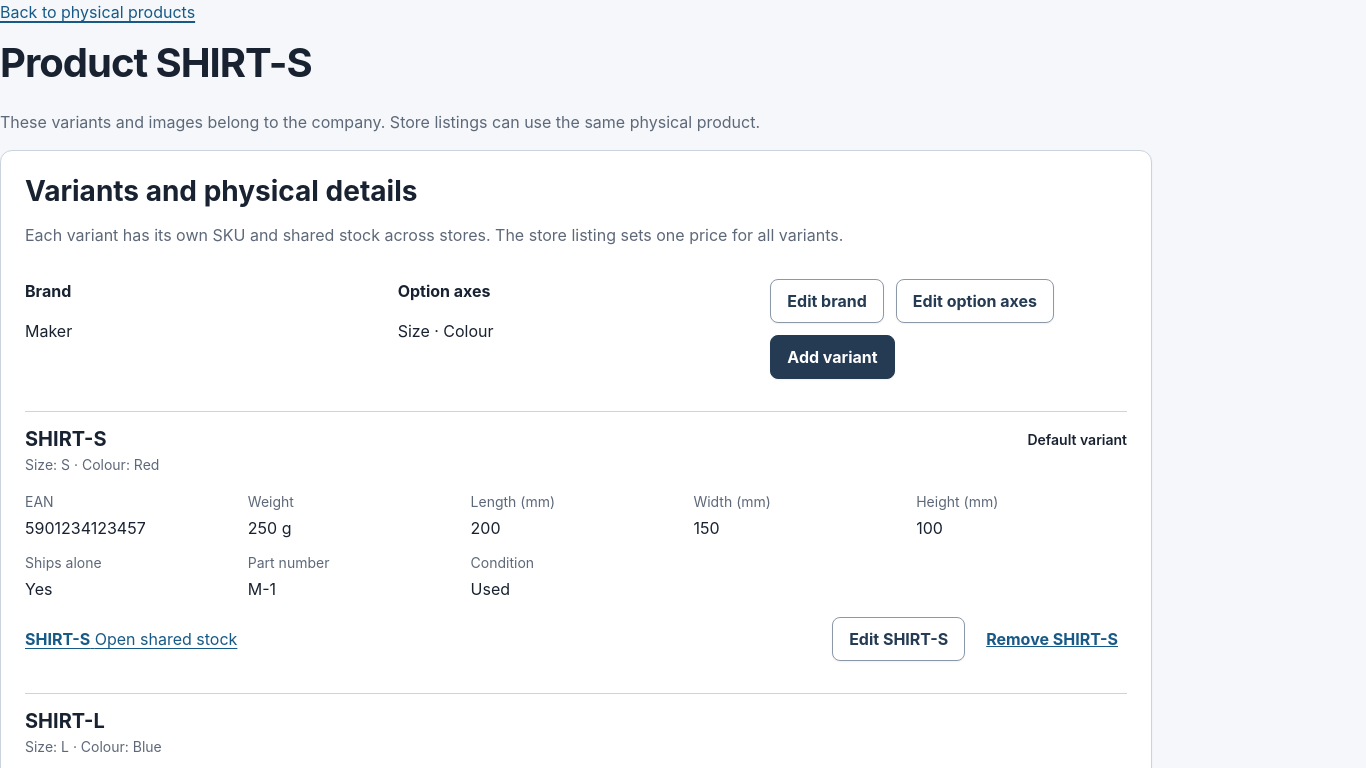
it: product variant editor › names and confirms deletion, keeps a refused deletion open, then uses the refreshed default
The image size is (1366, 768).
Click the button "Remove SHIRT-S".
click(1052, 639)  # box [977, 617, 1127, 661]
(page scrolled)
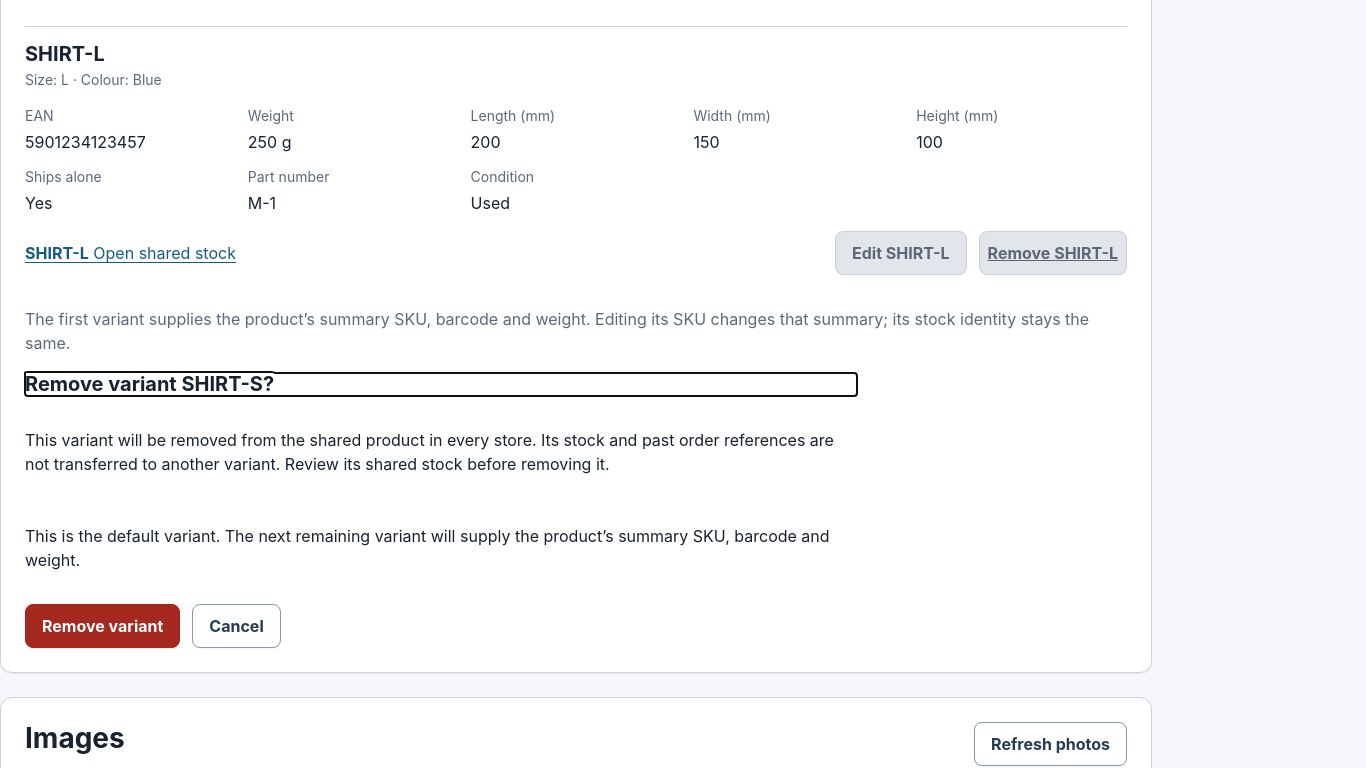
Check: the text "The next remaining variant" is shown, box [25, 526, 830, 570]
Click the button "Cancel".
click(237, 626)  # box [192, 604, 281, 648]
(page scrolled)
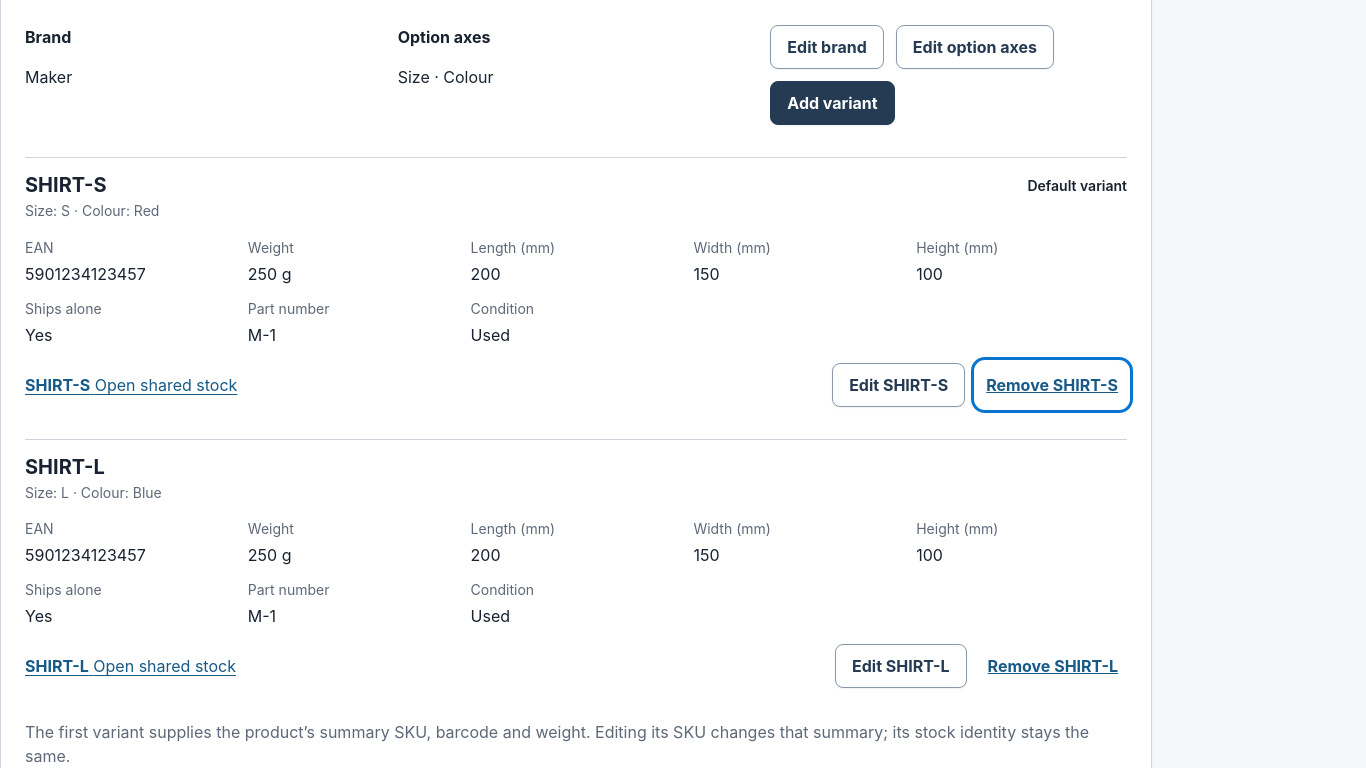
Click the button "Remove SHIRT-S".
click(1052, 385)  # box [977, 363, 1127, 407]
(page scrolled)
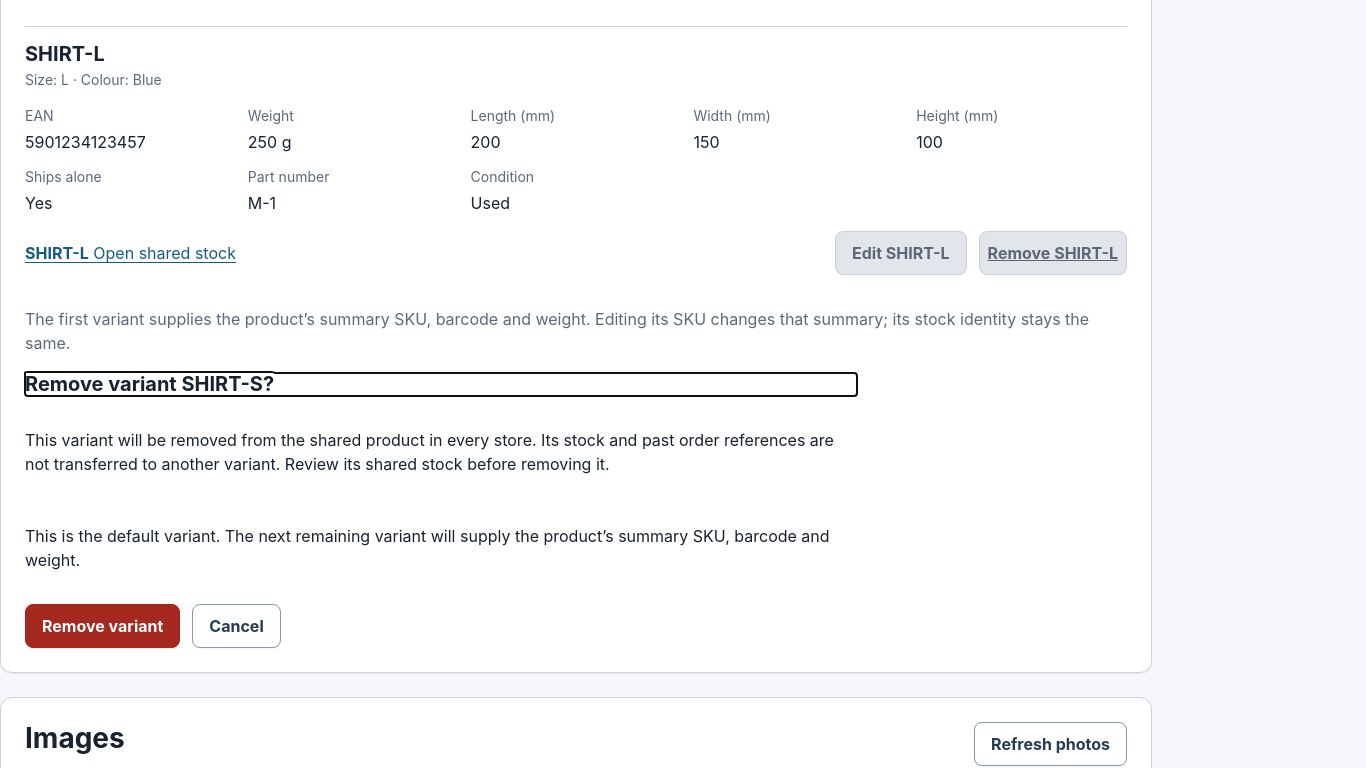
Click the button "Remove variant".
click(103, 626)  # box [25, 604, 180, 648]
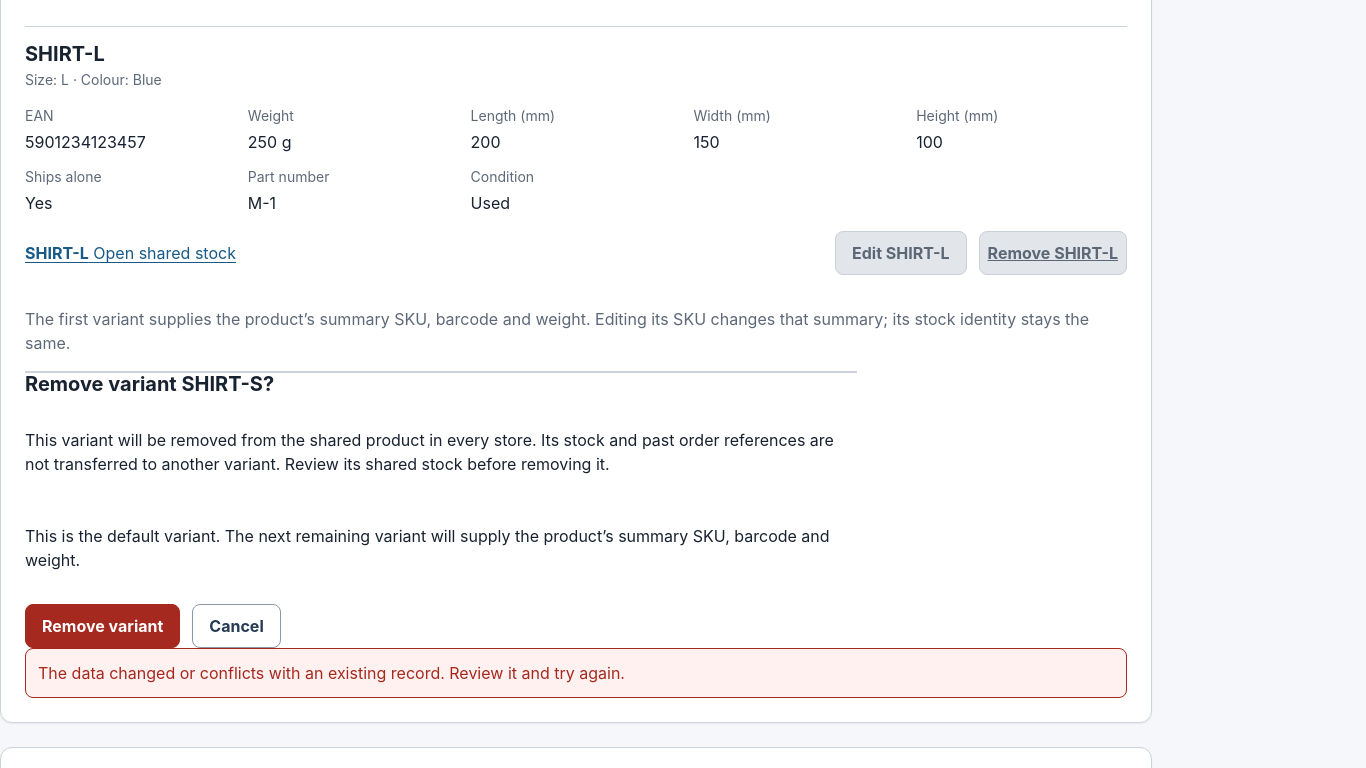
Check: the heading "Remove variant SHIRT-S?" is shown, box [25, 372, 274, 396]
Check: the message is shown, box [25, 648, 1127, 698]
Click the button "Remove variant".
click(103, 626)  # box [25, 604, 180, 648]
(page scrolled)
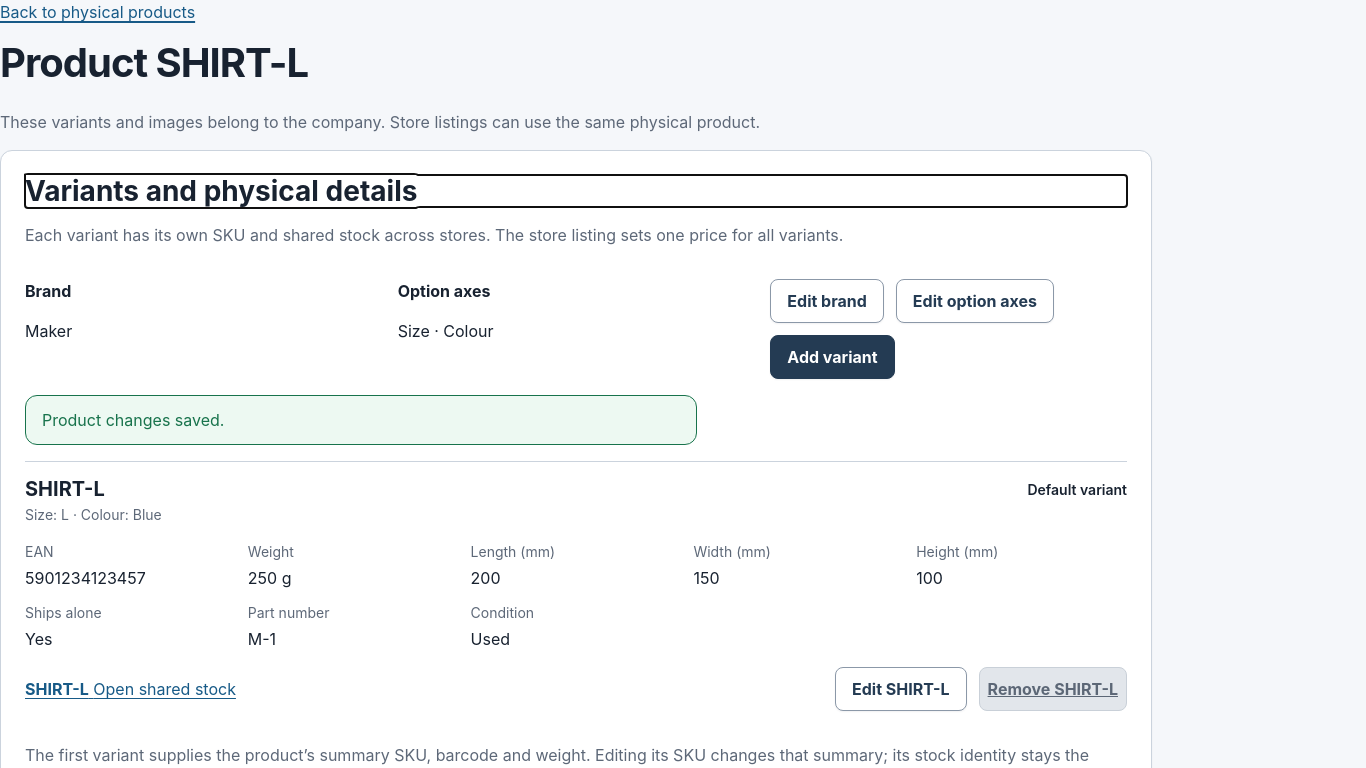
Check: the button "Remove SHIRT-L" is disabled, box [979, 667, 1127, 711]
Check: the heading "Product SHIRT-L" is shown, box [0, 38, 308, 87]
